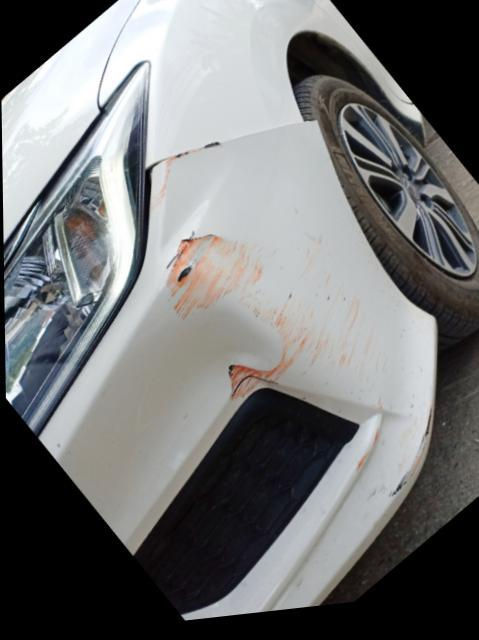scratch: (162, 231, 384, 404), (153, 144, 226, 207), (388, 413, 435, 510)
